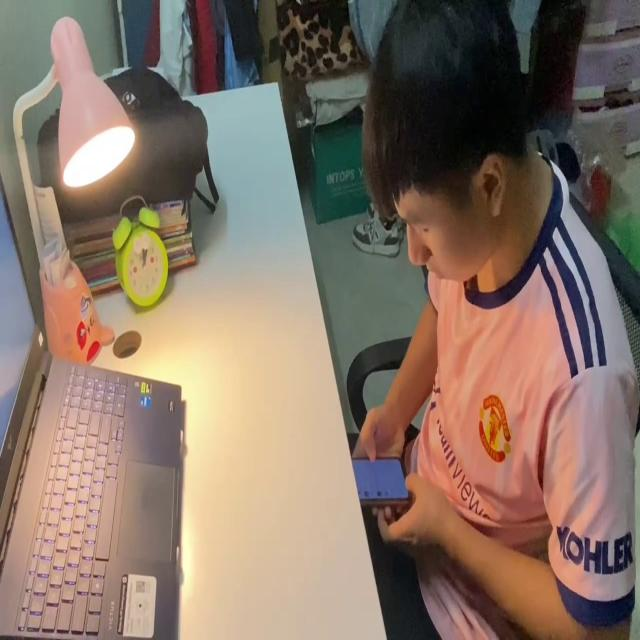laptop: (0, 169, 184, 640)
phone: (353, 455, 411, 510)
student: (353, 0, 639, 640)
